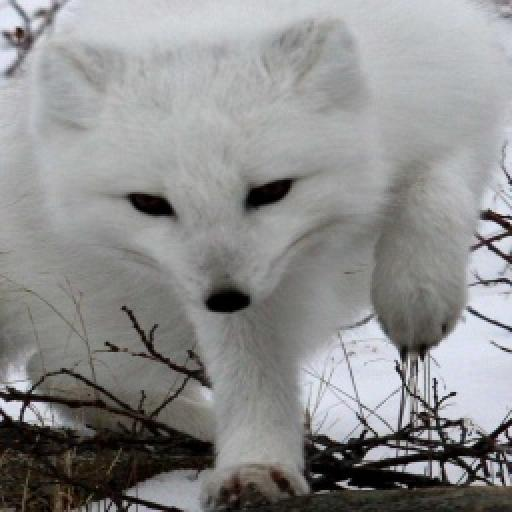zorro: (2, 0, 510, 508)
